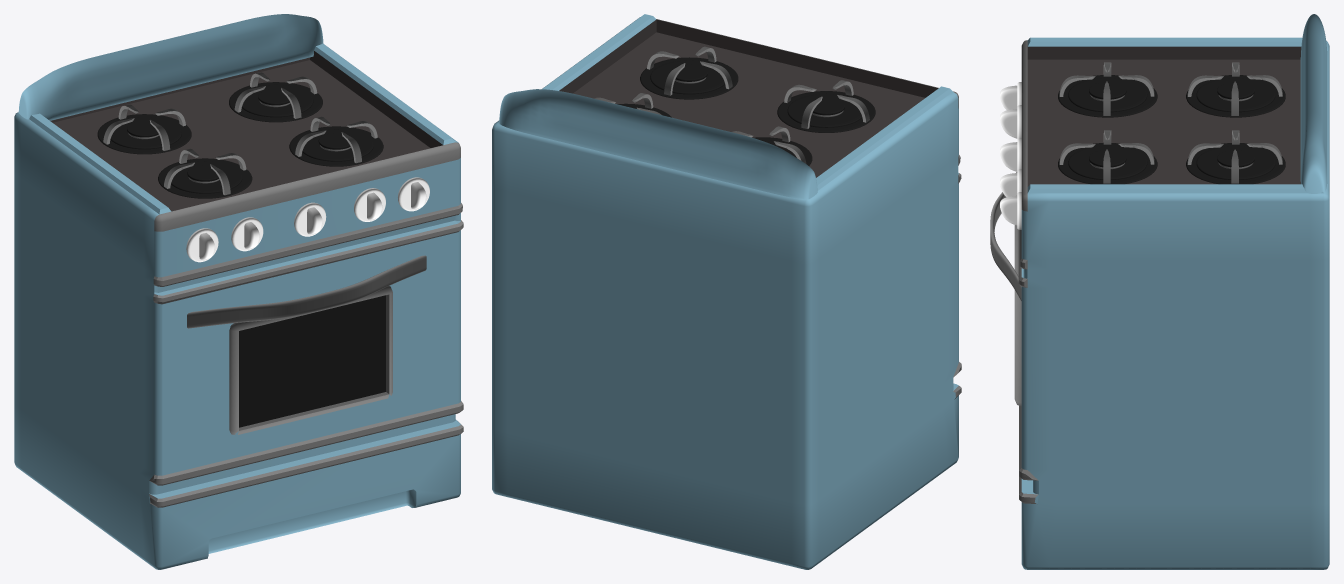
File: aacdc9c1-bd7f-4ecc-88c5-7586f9bffd8a.glb
3 views of the same model, side by side, from view 1: azimuth 30°, elevation 25°; view 2: azimuth 150°, elevation 25°; view 3: azimuth 270°, elevation 25° (orthographic). The views are drawn at different scales.
Visible parts, largest first — view 1: ChamferBox003; view 2: ChamferBox003; view 3: ChamferBox003.
Boxes of the visible parts, bbox=[...] form: ChamferBox003: bbox=[14, 14, 463, 569]; ChamferBox003: bbox=[492, 14, 961, 569]; ChamferBox003: bbox=[990, 14, 1329, 569].
Size of the model in its own units: 26.37 by 32.25 by 23.62.
